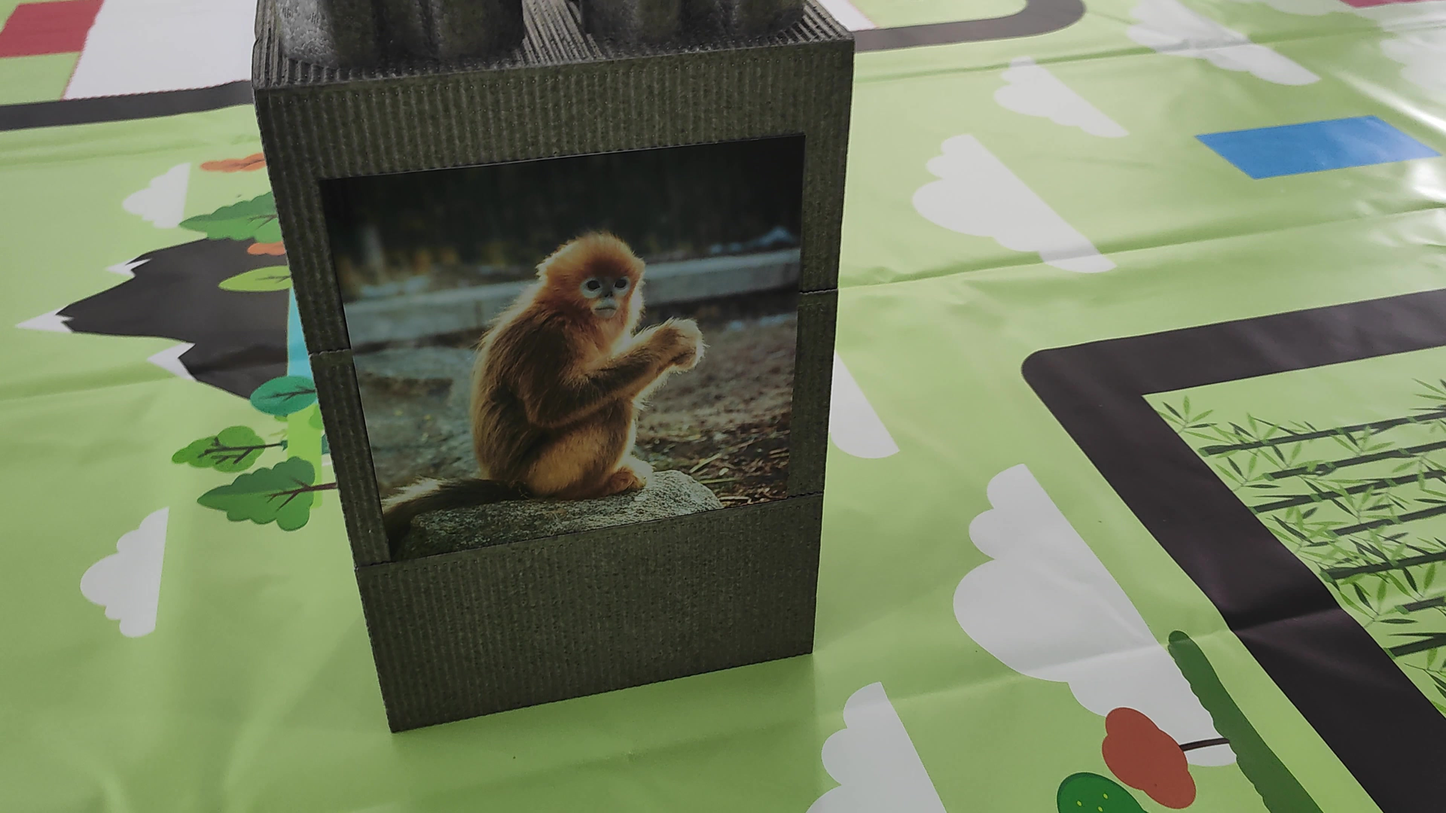monkey: (379, 219, 714, 553)
